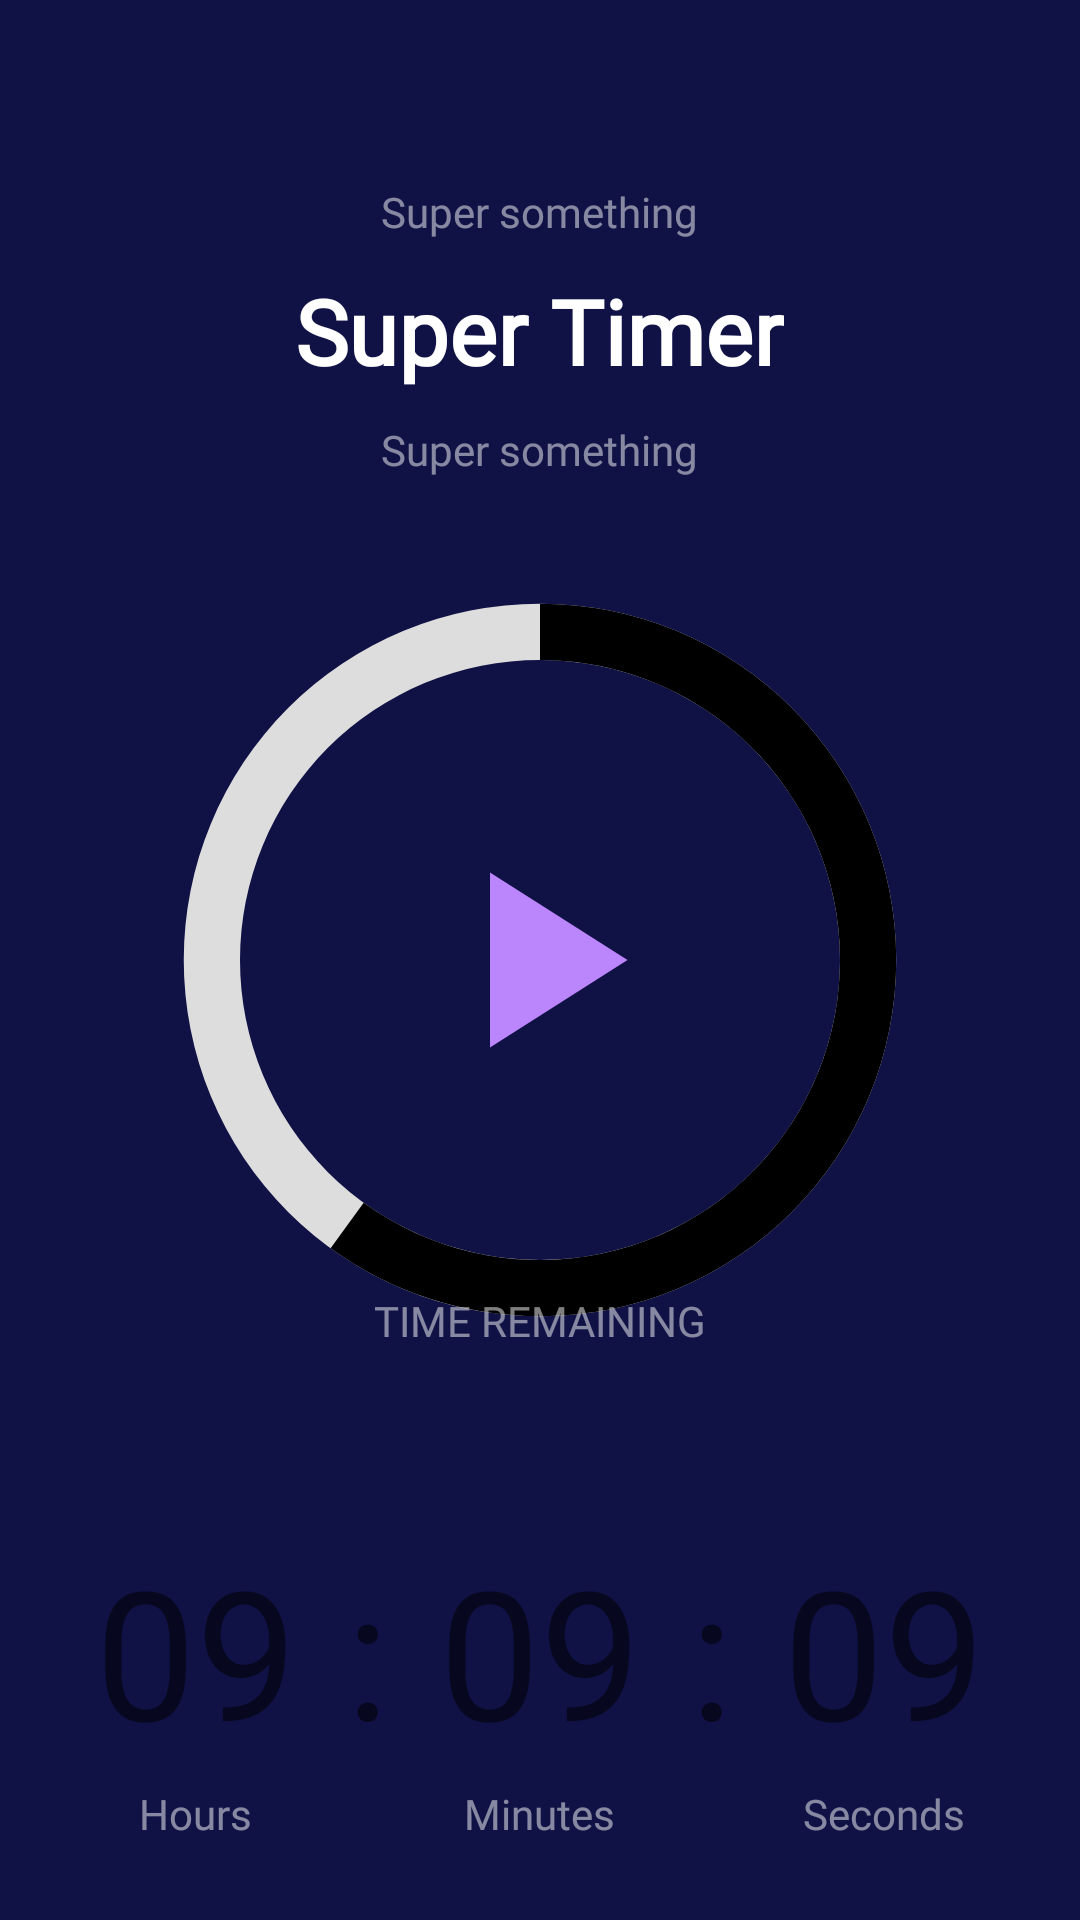

Where to tap for icons on this 1080 x 1920 app screen, as (x,y):
play arrow: (558,960)
